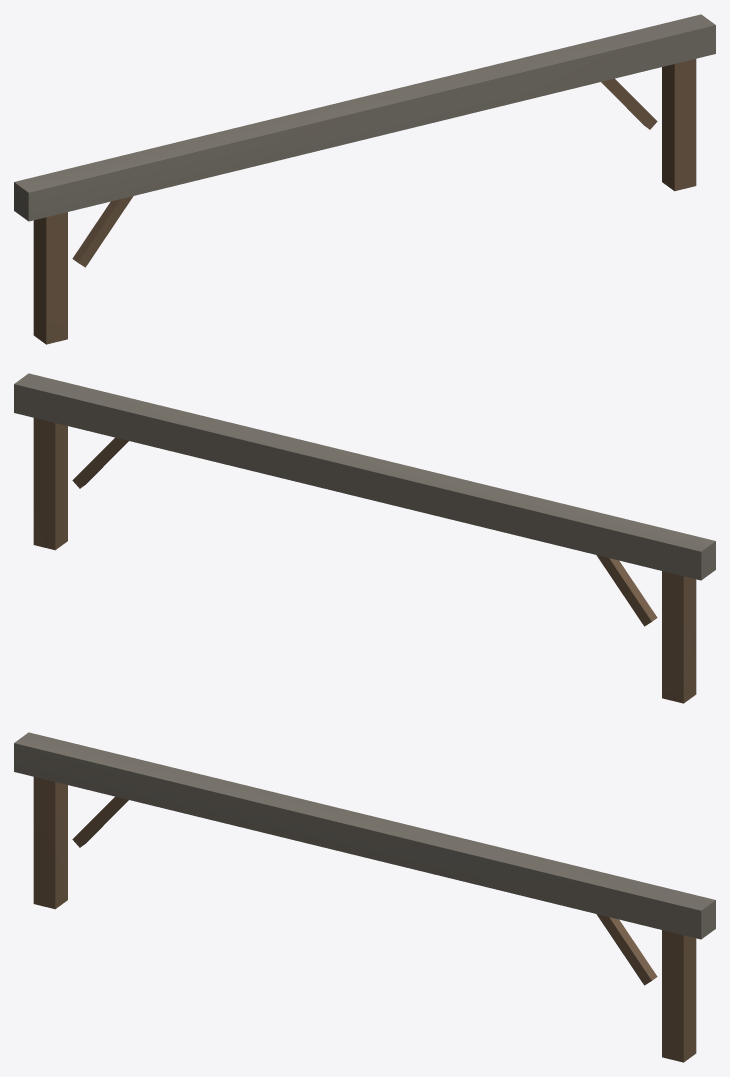
File: Beam_Low.glb
3 views of the same model, one above another, from view 1: azimuth 30°, elevation 25°; view 2: azimuth 150°, elevation 25°; view 3: azimuth 330°, elevation 25° (orthographic).
Parts seen in each view (by area): view 1: Beam_Low; view 2: Beam_Low; view 3: Beam_Low.
Part boxes in pixels (x1,y1,x2,y2): Beam_Low: (14, 14, 715, 344); Beam_Low: (14, 373, 715, 703); Beam_Low: (14, 732, 715, 1062).
Size of the model in its own units: 7 by 1.53 by 0.26.
